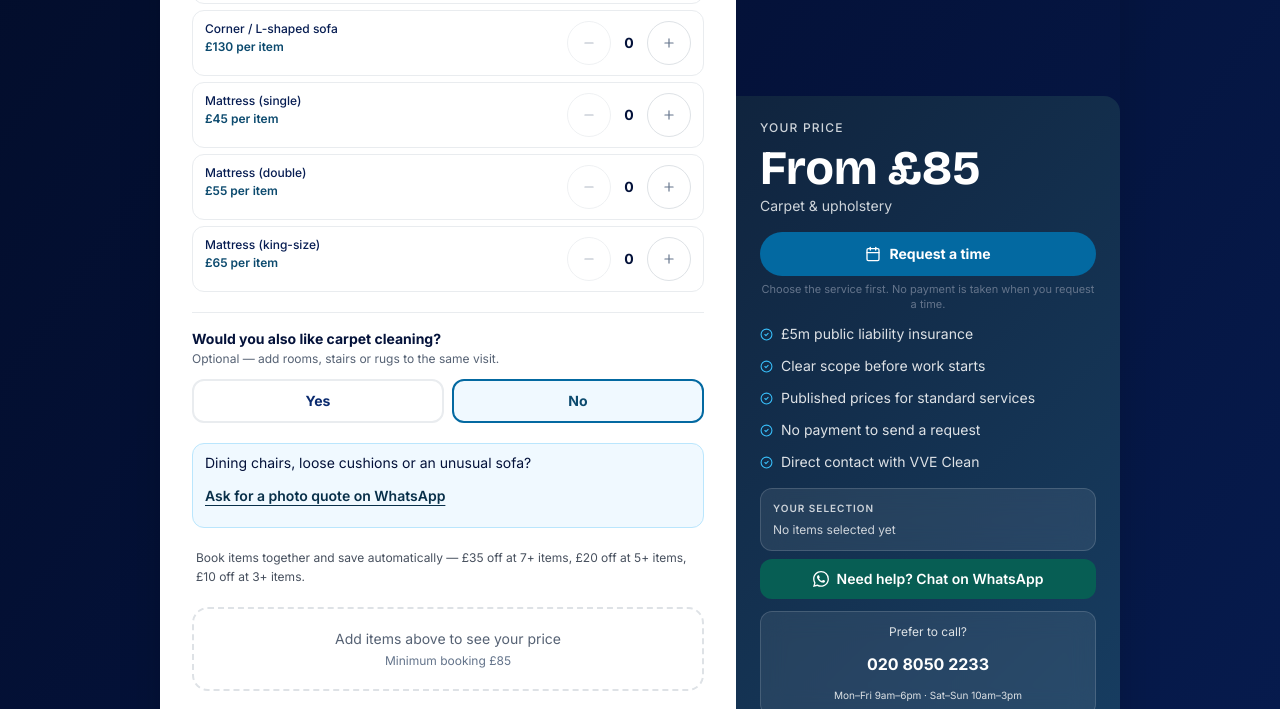
Test: Sofa page — optional carpet disclosure › reveals the real carpet controls when the customer says Yes
(page scrolled)
Click the button "Yes" at (318, 401), box x1=192 y1=379 x2=444 y2=423
(page scrolled)
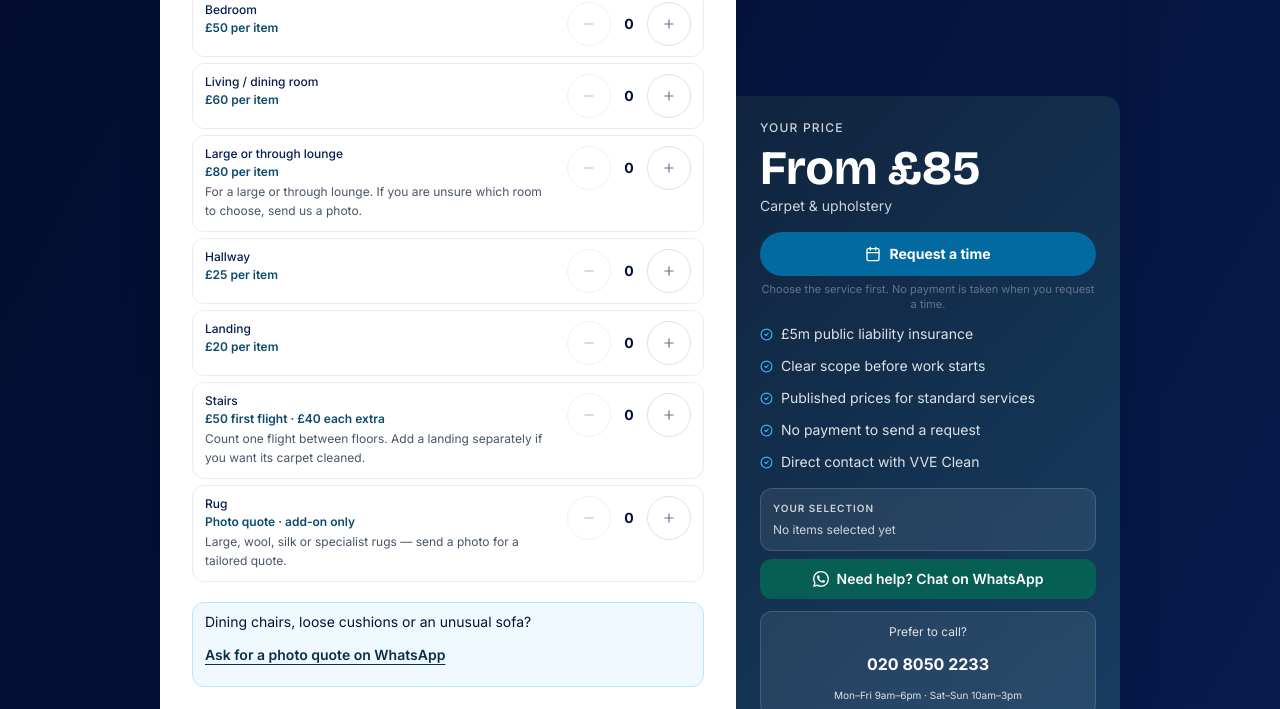
Result: the text "Bedroom" is shown at x1=205 y1=2 x2=257 y2=18
Result: the text "Living / dining room" is shown at x1=205 y1=74 x2=318 y2=90
Result: the text "Hallway" is shown at x1=205 y1=249 x2=250 y2=265
